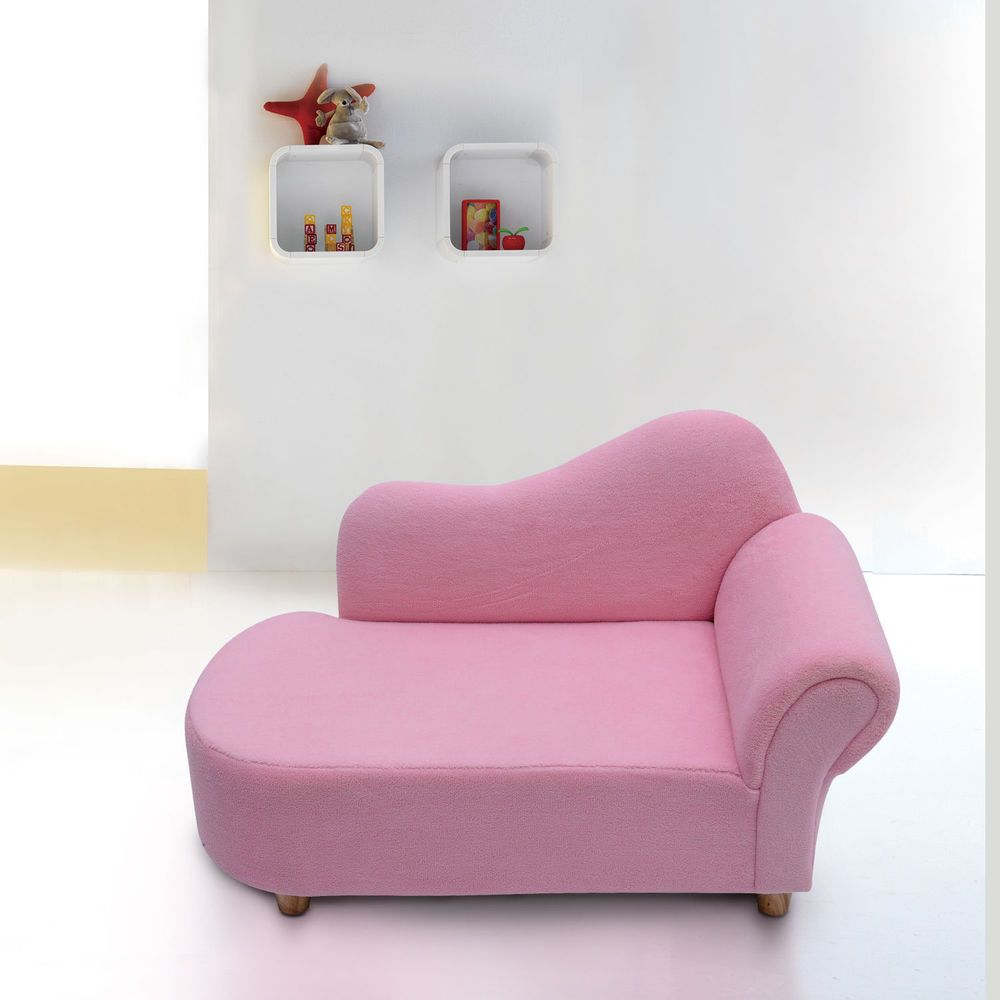chairs: (180, 406, 902, 929)
